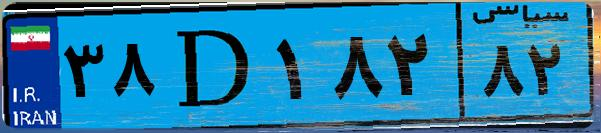1: (270, 28, 330, 110)
2: (385, 28, 445, 110), (525, 38, 570, 115)
3: (57, 26, 110, 100)
8: (330, 28, 385, 110), (475, 38, 525, 113), (110, 28, 158, 98)
D: (158, 12, 270, 120)
